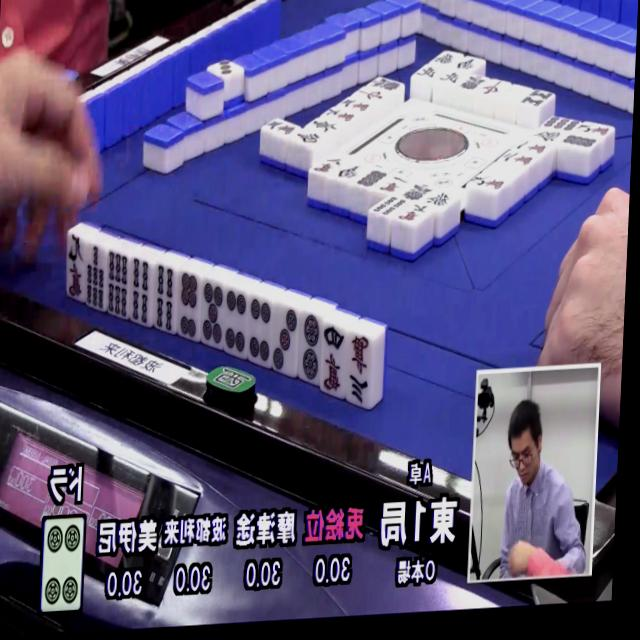m3: (340, 329, 376, 407)
m4: (317, 320, 349, 398)
m9: (63, 231, 86, 304)
s4: (148, 263, 180, 338), (124, 256, 154, 329)
s6: (101, 249, 132, 321)
s7: (80, 243, 108, 312)
t2: (294, 310, 324, 385)
t3: (267, 304, 301, 378)
t4: (36, 516, 84, 614), (244, 295, 276, 368), (221, 288, 251, 360)
t5: (196, 277, 227, 350)
t6: (171, 270, 203, 342)
